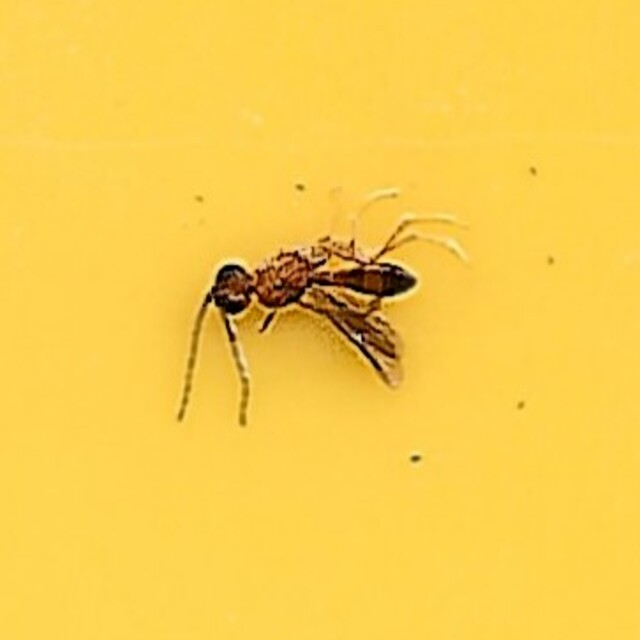Hymenoptera: (176, 207, 464, 433)
